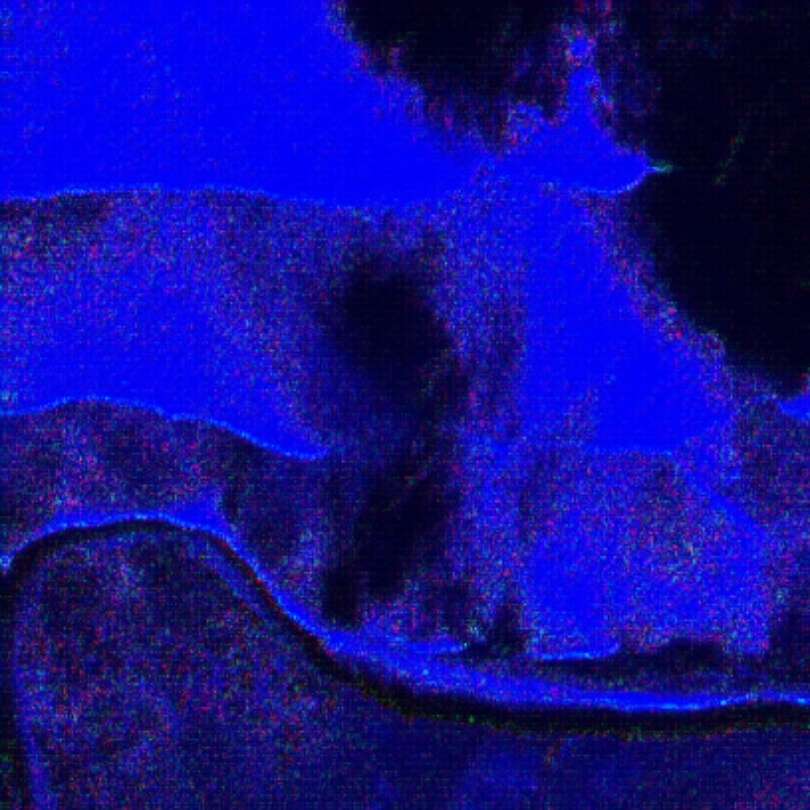rip_current: (202, 126, 575, 629)
